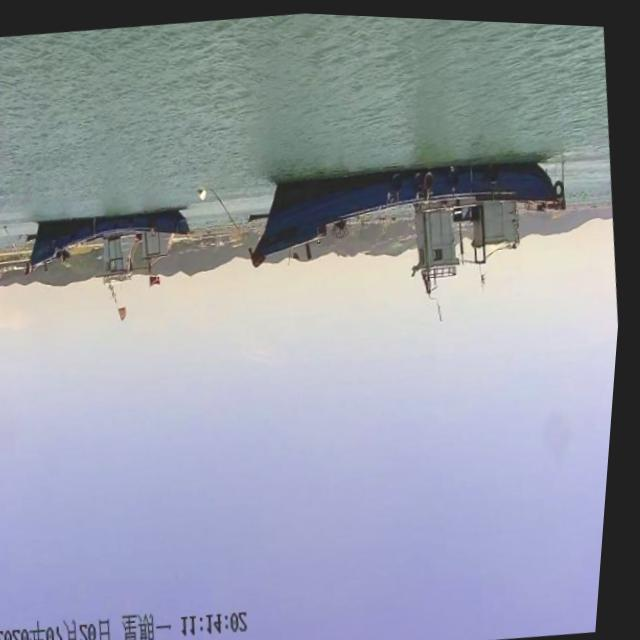ship2: (255, 156, 570, 314), (30, 206, 193, 318)
